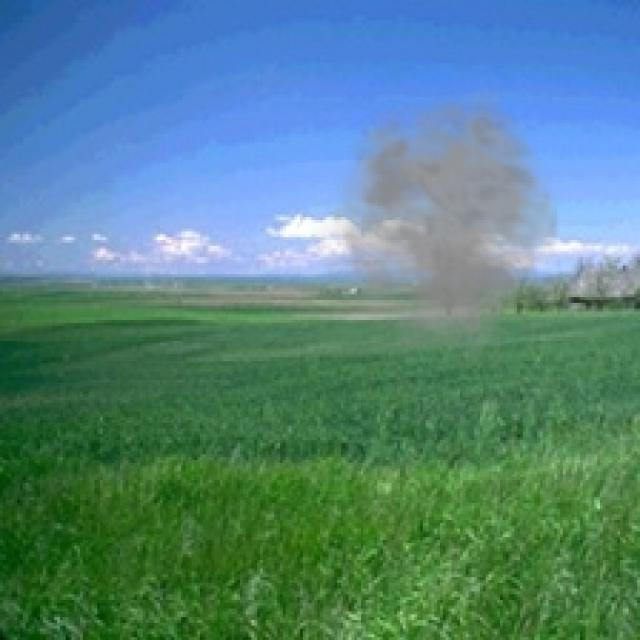smoke: (311, 88, 560, 366)
